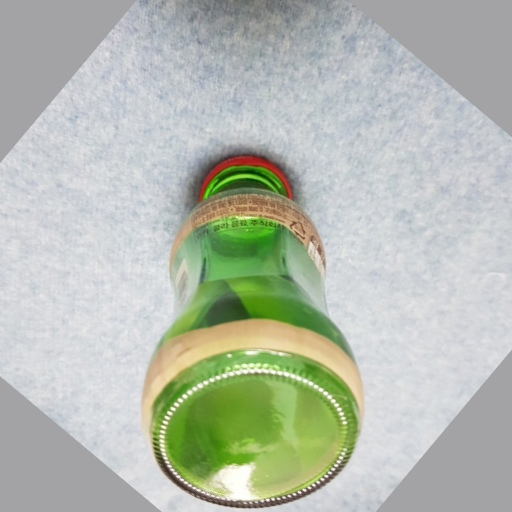Glass_4: (143, 153, 364, 504)
